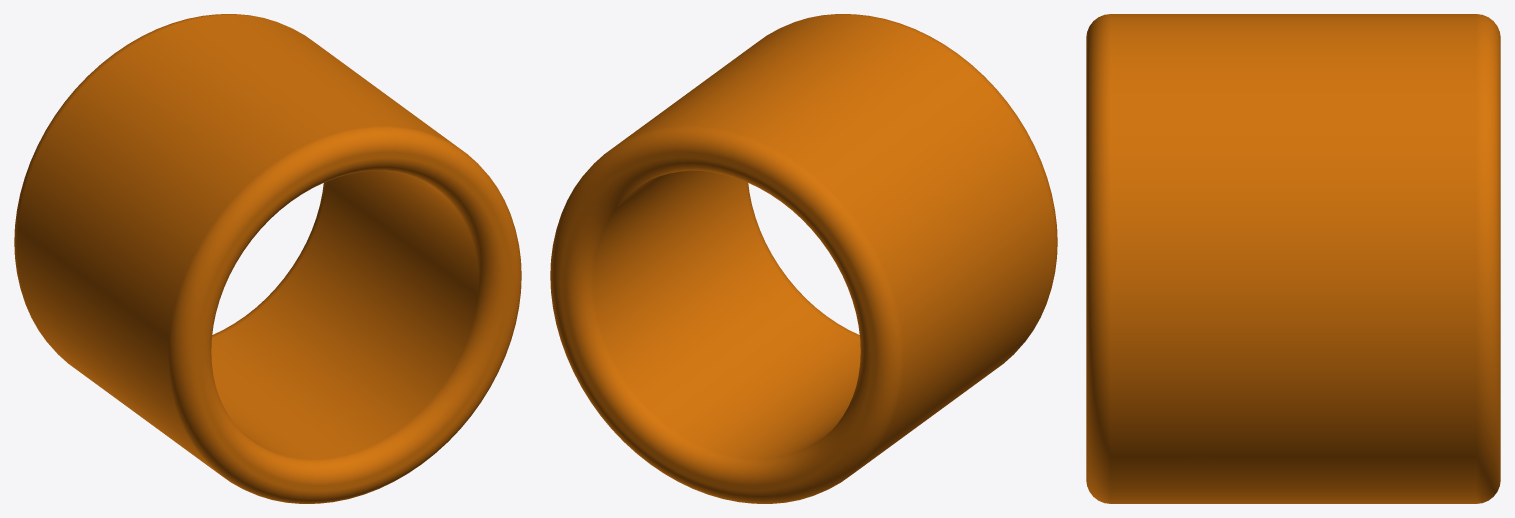
File: FG_MedallionRim.obj
3 views of the same model, side by side, from view 1: azimuth 30°, elevation 25°; view 2: azimuth 150°, elevation 25°; view 3: azimuth 270°, elevation 25° (orthographic). The views are drawn at different scales.
Parts seen in each view (by area): view 1: FG_MedallionRim; view 2: FG_MedallionRim; view 3: FG_MedallionRim.
Boxes of the visible parts, box(x1,y1,x2,y2) form: FG_MedallionRim: box(14, 14, 521, 503); FG_MedallionRim: box(550, 14, 1057, 503); FG_MedallionRim: box(1086, 14, 1500, 503).
Size of the model in its own units: 3.9 by 3.9 by 3.3.
